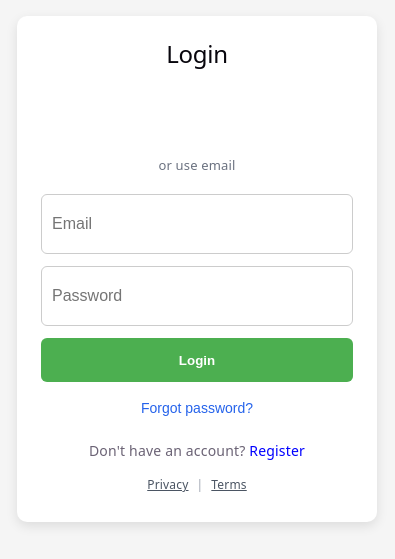
Test: Login › shows a friendly error when login fails
Type "demo@lifebits.test" into the field with placeholder "Email" at (197, 224), box [41,194,353,254]
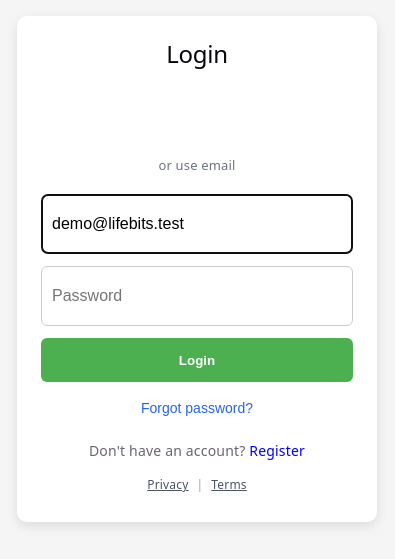
Type "wrong-password" into the password field with placeholder "Password" at (197, 296), box [41,266,353,326]
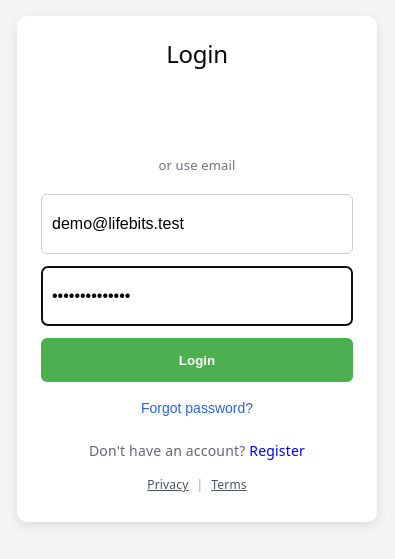
Click the button "Login" at (197, 360), box [41,338,353,382]
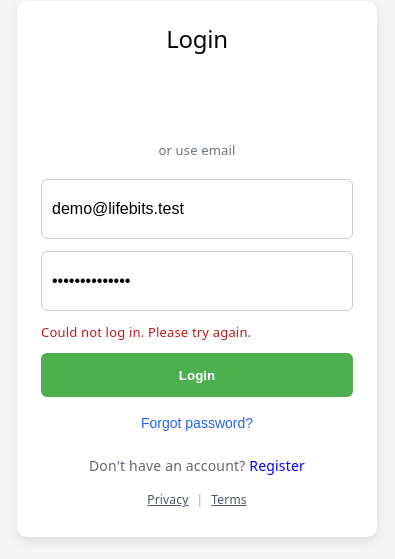
Expected: the message reads "Could not log in. Please try again.", [41,323,251,341]
